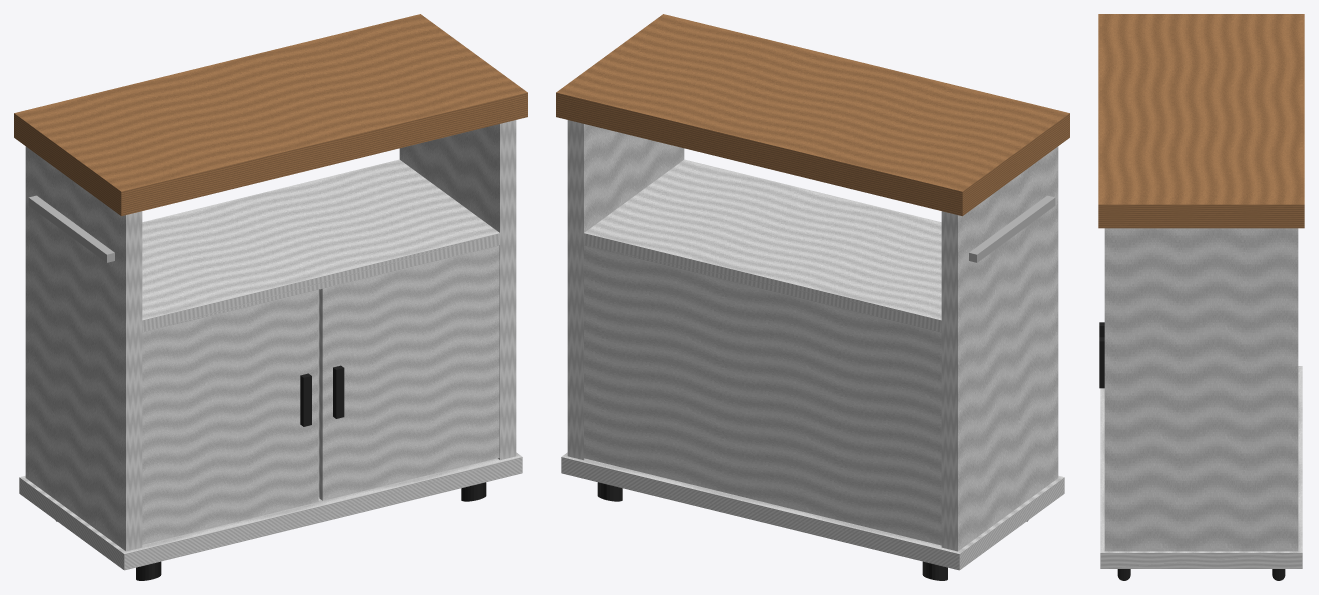
The picture shows the model from 3 angles, left to right: view 1: azimuth 30°, elevation 25°; view 2: azimuth 150°, elevation 25°; view 3: azimuth 270°, elevation 25°; orthographic projection. The views are drawn at different scales.
Visible parts, largest first — view 1: 1 top_panel, 3 left_panel, 11 right_door, 10 left_door, 5 middle_shelf, 4 right_panel, 2 bottom_panel, 14 towel_rack; view 2: 6 lower_back_panel, 1 top_panel, 3 left_panel, 5 middle_shelf, 4 right_panel, 2 bottom_panel, 14 towel_rack; view 3: 4 right_panel, 1 top_panel, 2 bottom_panel, 13 right_handle.
Boxes of the visible parts, left/top/right/bottom form: 1 top_panel: left=14, top=14, right=527, bottom=216; 3 left_panel: left=25, top=146, right=142, bottom=551; 11 right_door: left=319, top=245, right=499, bottom=500; 10 left_door: left=142, top=289, right=318, bottom=544; 5 middle_shelf: left=142, top=159, right=499, bottom=332; 4 right_panel: left=399, top=120, right=516, bottom=460; 2 bottom_panel: left=19, top=452, right=522, bottom=570; 14 towel_rack: left=28, top=195, right=114, bottom=262; 6 lower_back_panel: left=584, top=245, right=941, bottom=545; 1 top_panel: left=556, top=14, right=1069, bottom=216; 3 left_panel: left=941, top=146, right=1058, bottom=551; 5 middle_shelf: left=584, top=159, right=941, bottom=332; 4 right_panel: left=567, top=120, right=684, bottom=460; 2 bottom_panel: left=561, top=452, right=1064, bottom=570; 14 towel_rack: left=969, top=195, right=1055, bottom=262; 4 right_panel: left=1104, top=228, right=1298, bottom=551; 1 top_panel: left=1098, top=14, right=1304, bottom=228; 2 bottom_panel: left=1100, top=366, right=1302, bottom=568; 13 right_handle: left=1099, top=337, right=1104, bottom=388.
Size of the model in its own units: 1.05 by 1 by 0.48.
5 materials, 2 textured.
